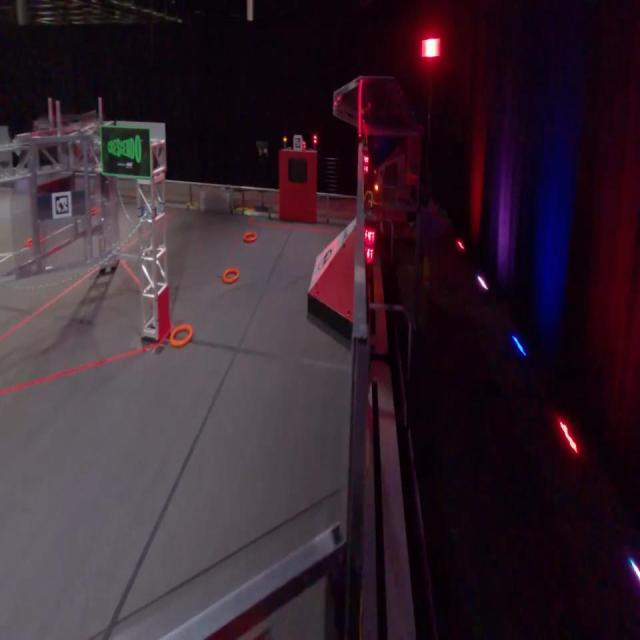note: (170, 323, 193, 347), (222, 268, 239, 284), (244, 231, 258, 242)
